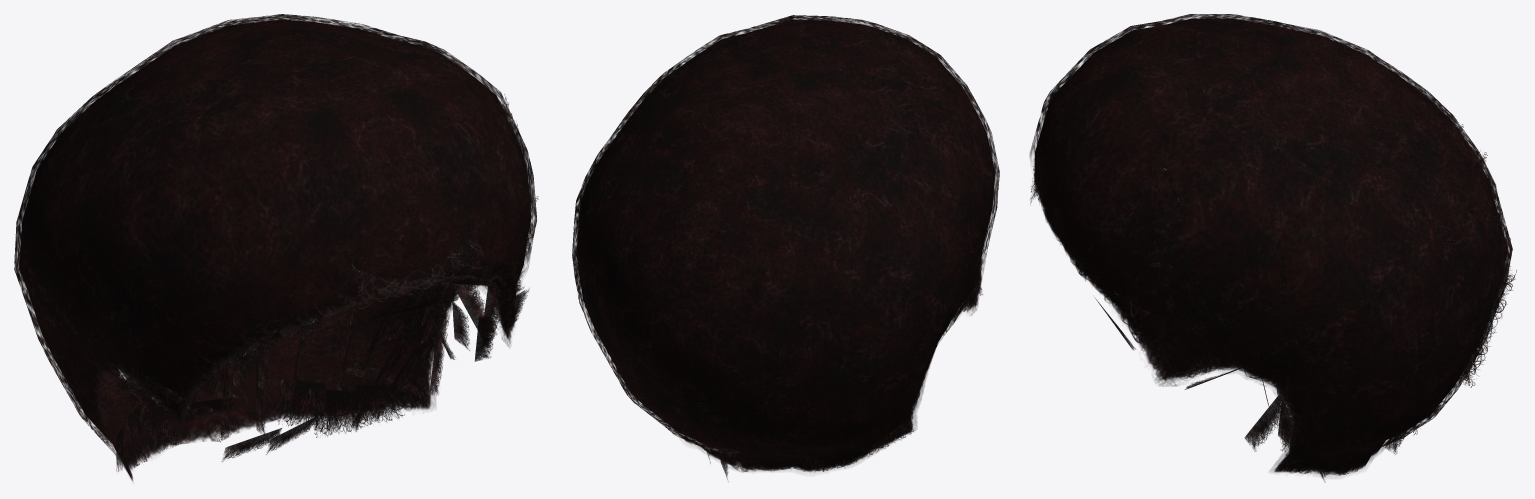
File: afro.glb
The picture shows the model from 3 angles, left to right: view 1: azimuth 30°, elevation 25°; view 2: azimuth 150°, elevation 25°; view 3: azimuth 270°, elevation 25°; orthographic projection. The views are drawn at different scales.
Visible parts, largest first — view 1: hair_afro; view 2: hair_afro; view 3: hair_afro.
Part boxes in pixels (left/top/right/bottom): hair_afro: left=14, top=14, right=538, bottom=481; hair_afro: left=572, top=15, right=999, bottom=481; hair_afro: left=1029, top=14, right=1516, bottom=482.
Size of the model in its own units: 0.2088 by 0.2134 by 0.2308.
Materials: 1 (1 with a texture image).
